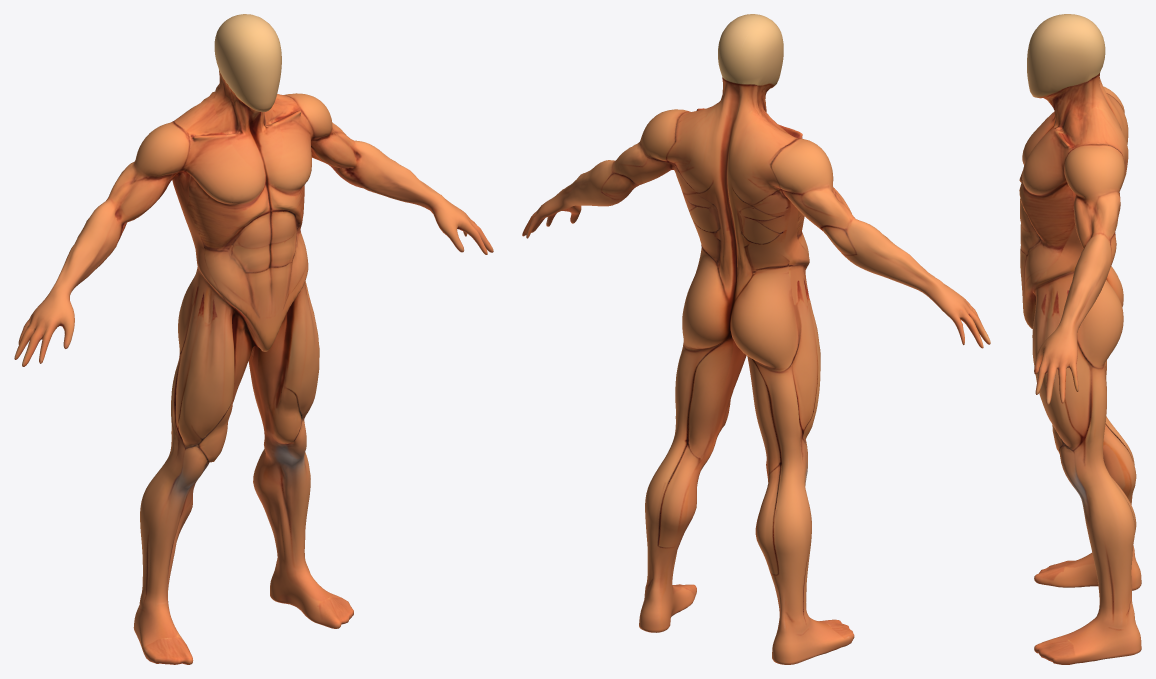
The model's file is humanoid.glb.
3 views of the same model, side by side, from view 1: azimuth 30°, elevation 25°; view 2: azimuth 150°, elevation 25°; view 3: azimuth 270°, elevation 25° (orthographic). The views are drawn at different scales.
Parts seen in each view (by area): view 1: Object_2; view 2: Object_2; view 3: Object_2.
Boxes of the visible parts, <box> form: Object_2: <box>14,14,493,664</box>; Object_2: <box>522,14,990,664</box>; Object_2: <box>1019,14,1141,664</box>.
Size of the model in its own units: 1.52 by 1.9 by 0.3502.
1 material, 1 textured.
